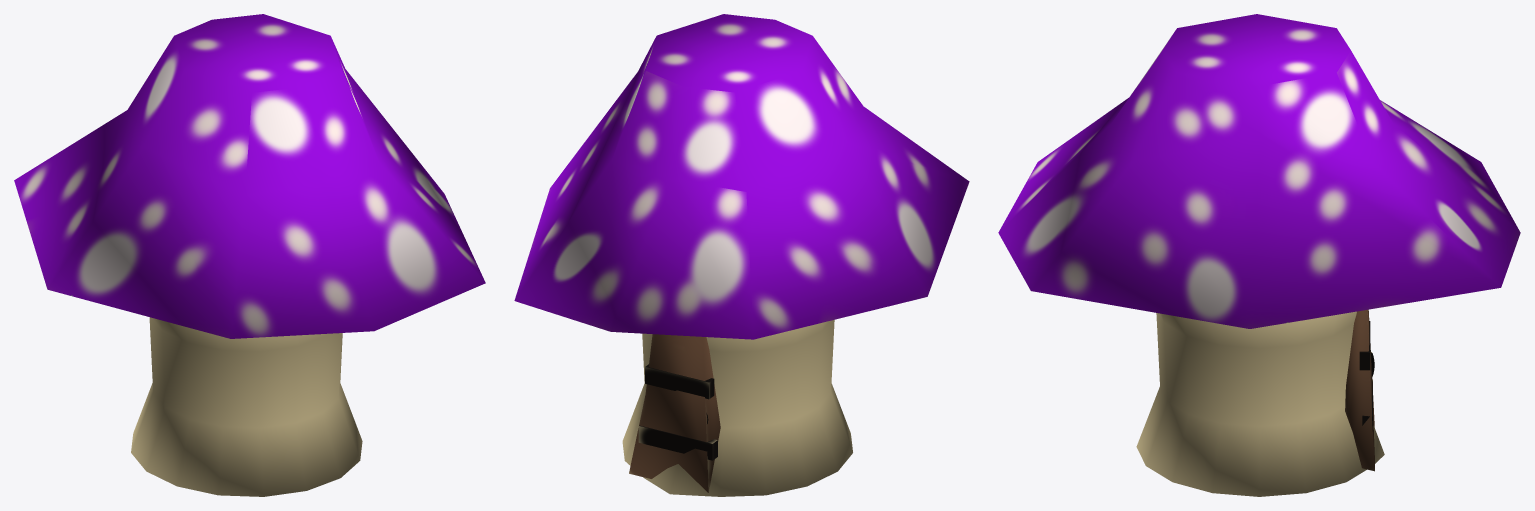
Rendered from MushroomHouse.fbx.
The picture shows the model from 3 angles, left to right: view 1: azimuth 30°, elevation 25°; view 2: azimuth 150°, elevation 25°; view 3: azimuth 270°, elevation 25°; orthographic projection. The views are drawn at different scales.
Parts seen in each view (by area): view 1: Plank1; view 2: Plank1; view 3: Plank1.
Part boxes in pixels (left/top/right/bottom): Plank1: left=14, top=14, right=485, bottom=496; Plank1: left=514, top=14, right=969, bottom=496; Plank1: left=998, top=14, right=1520, bottom=496.
Bounding box in the file's own units: 395 × 386 × 450.
